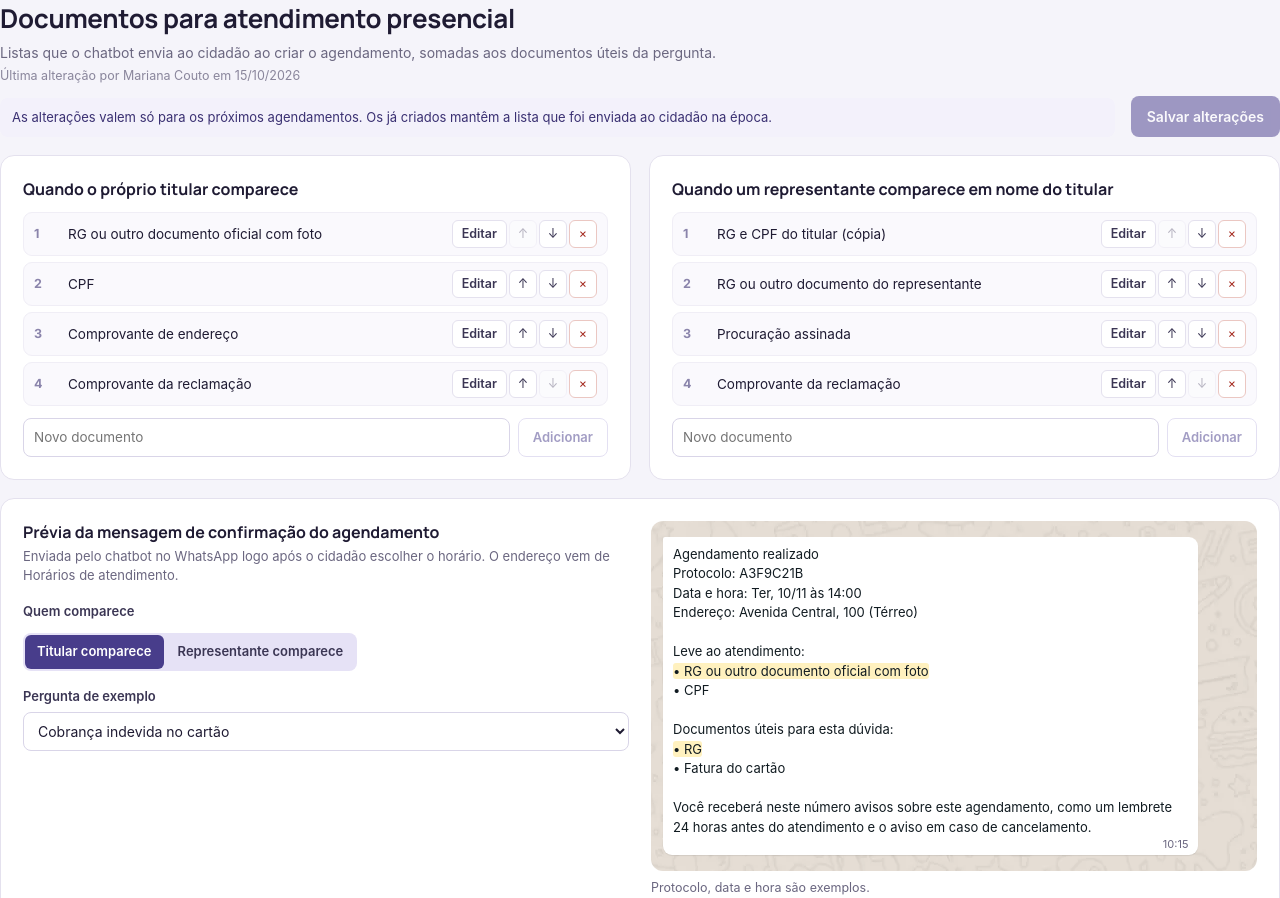
Test: DocumentsPage › 401 ao salvar pede para entrar de novo
What coordinates should you click on to do the following:
click the button named "Remover CPF"
I would click on:
 (583, 284)
Its box is [569,270,597,298].
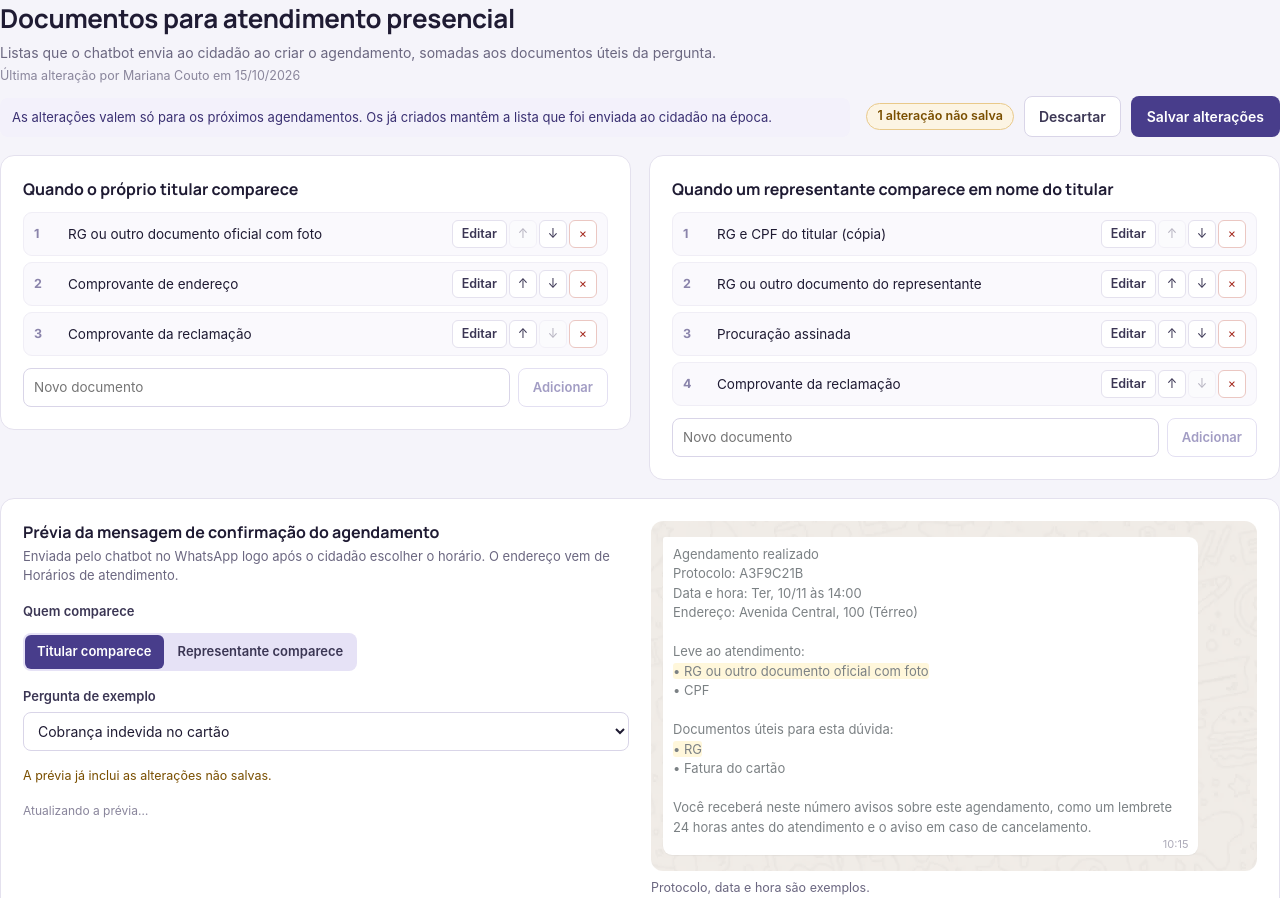
What coordinates should you click on to do the following:
click the button "Salvar alterações"
I would click on:
 (1205, 117)
Its box is [1131,96,1279,137].
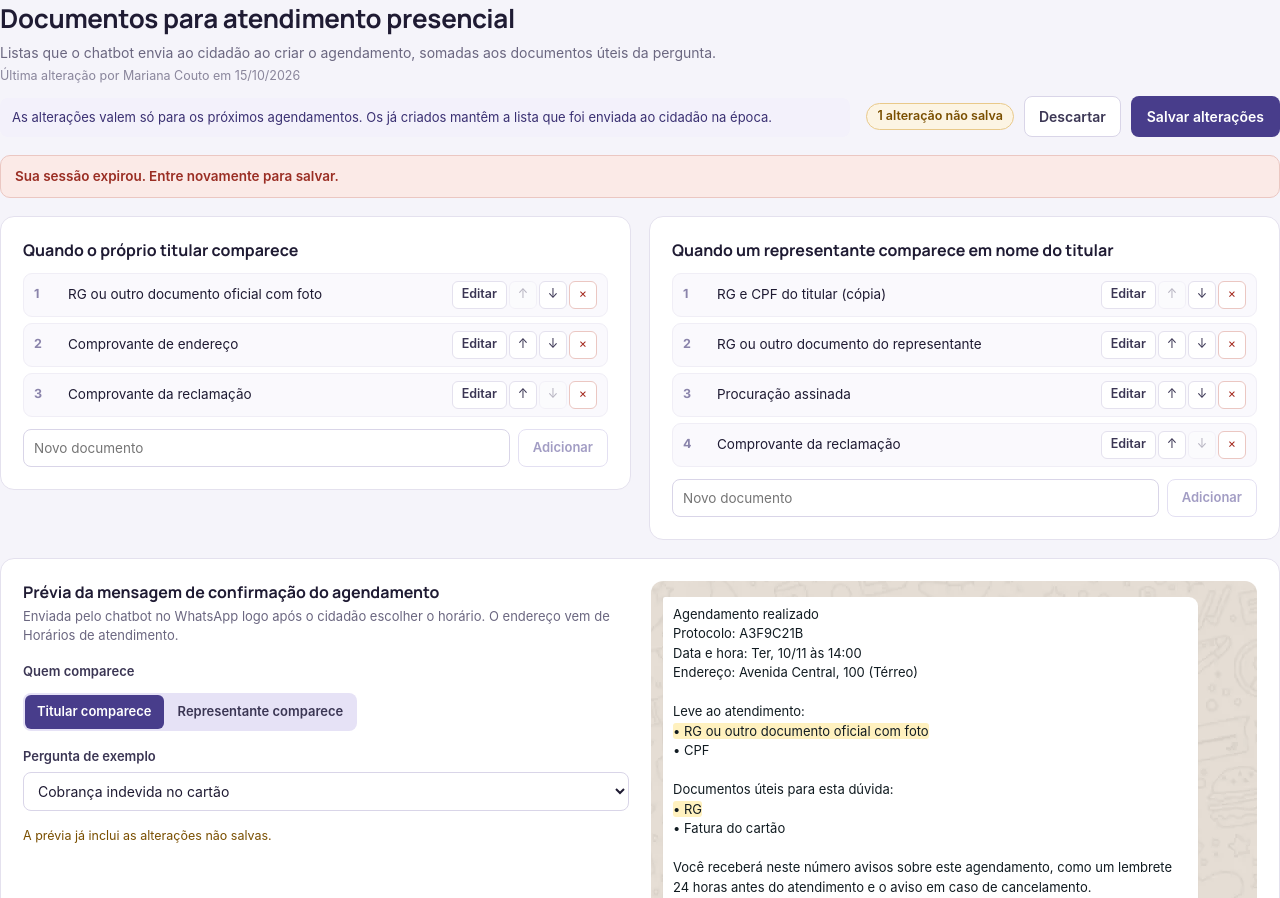
Expected: the message reads "Sua sessão expirou. Entre novamente para salvar.", [15,168,339,184]
